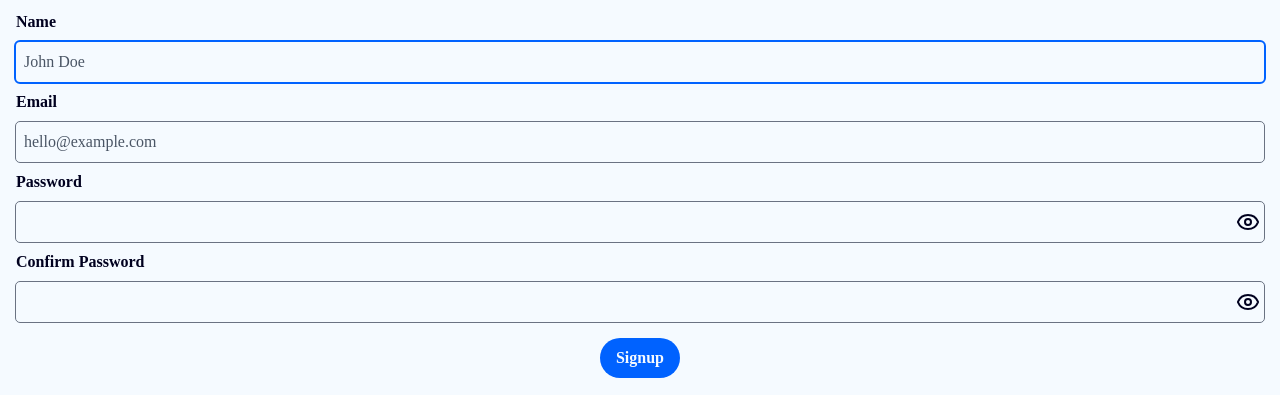
Scenario: SignupForm Integration with API › shows toast for network error
Type "Test" into the field labelled "Name" at (640, 62), box [16,42,1264,82]
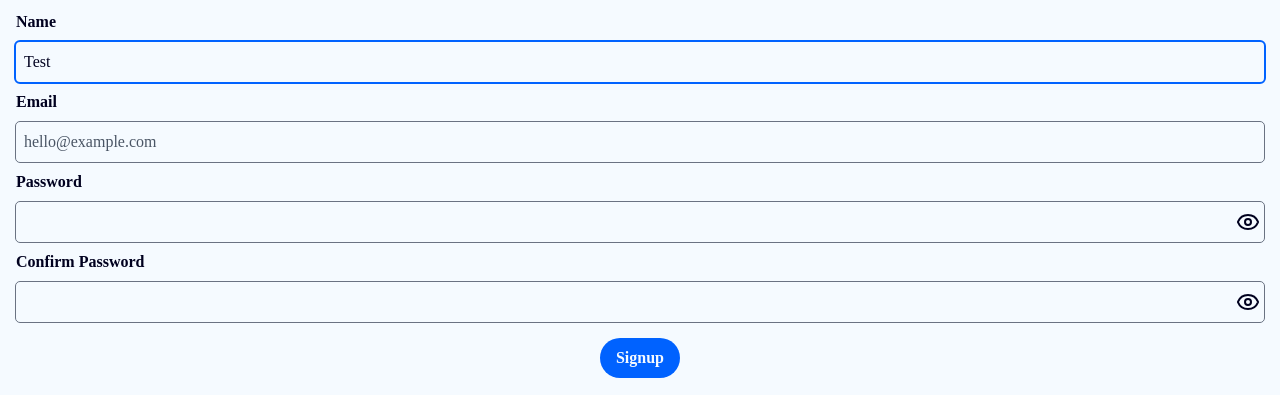
Type "test@test.com" into the field labelled "Email" at (640, 142), box [16,122,1264,162]
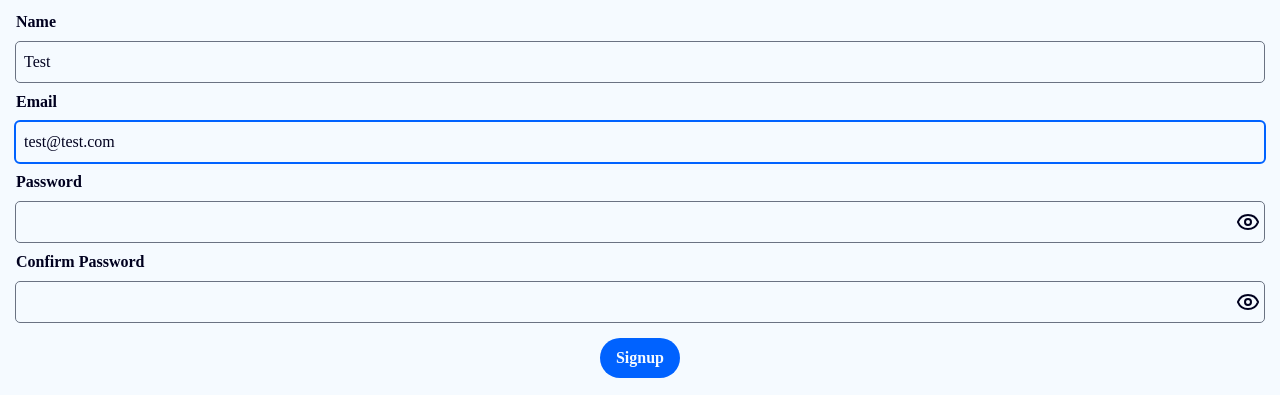
Type "Test@123" into the password field labelled "Password" at (640, 222), box [16,202,1264,242]
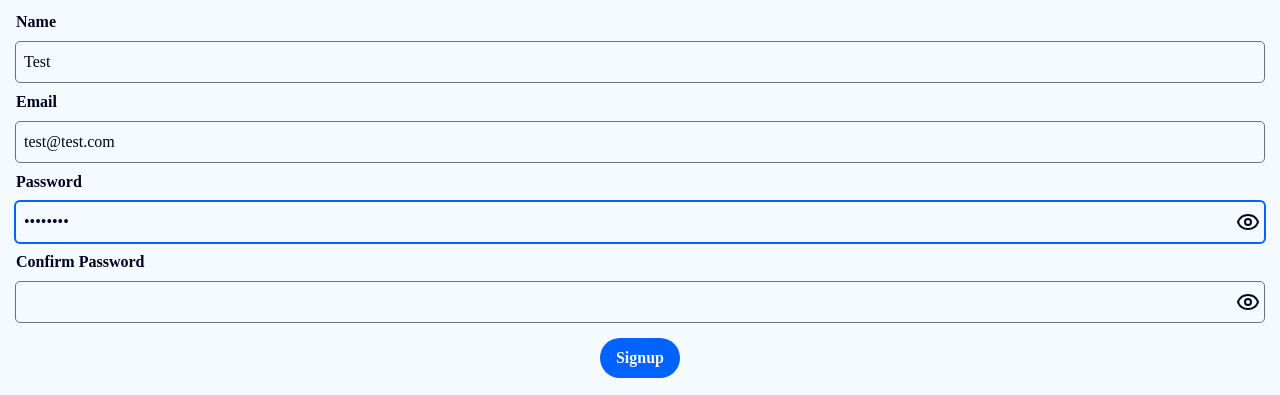
Type "Test@123" into the password field labelled "Confirm Password" at (640, 302), box [16,282,1264,322]
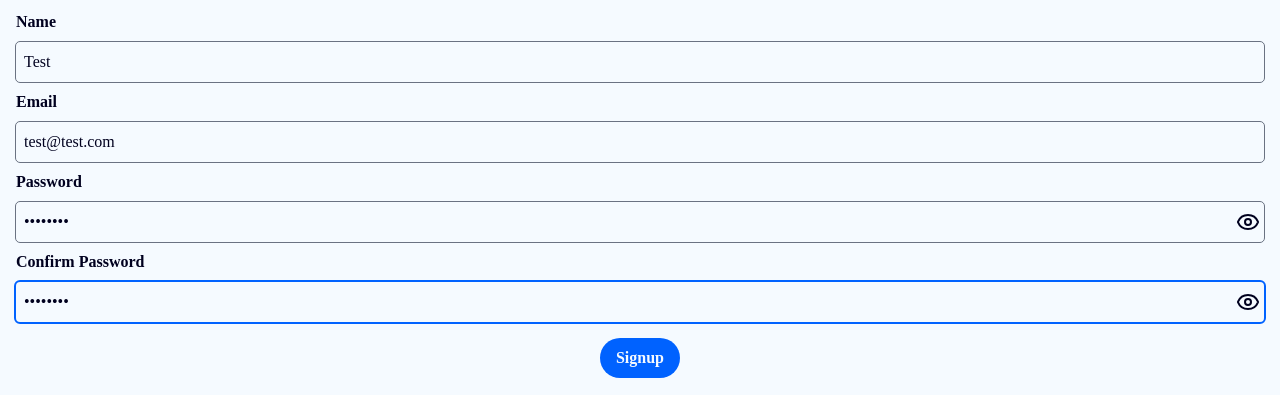
Click the button "Signup" at (640, 358), box [600,338,680,378]
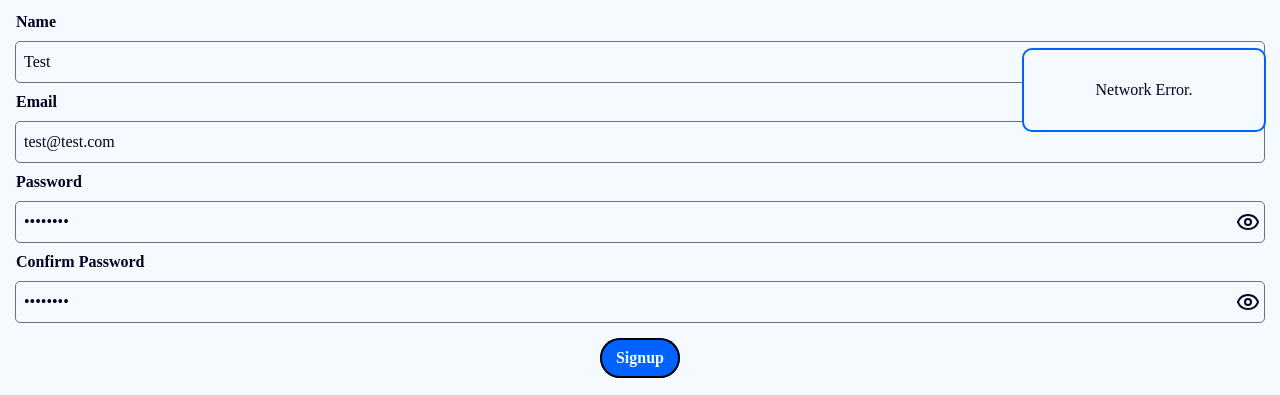
Result: the text "Network Error." is shown at [1096,81,1192,98]
